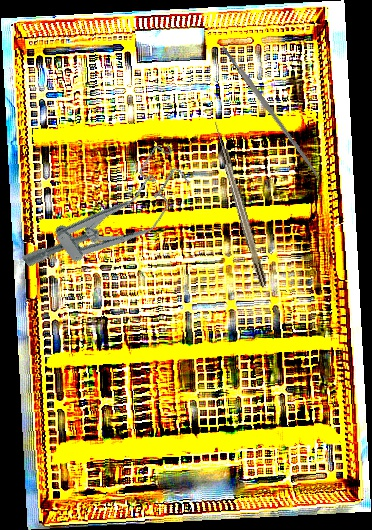Hook Surgical: (211, 119, 268, 288)
Scalpel Handle: (220, 43, 322, 180)
Speculum: (13, 140, 203, 300)
